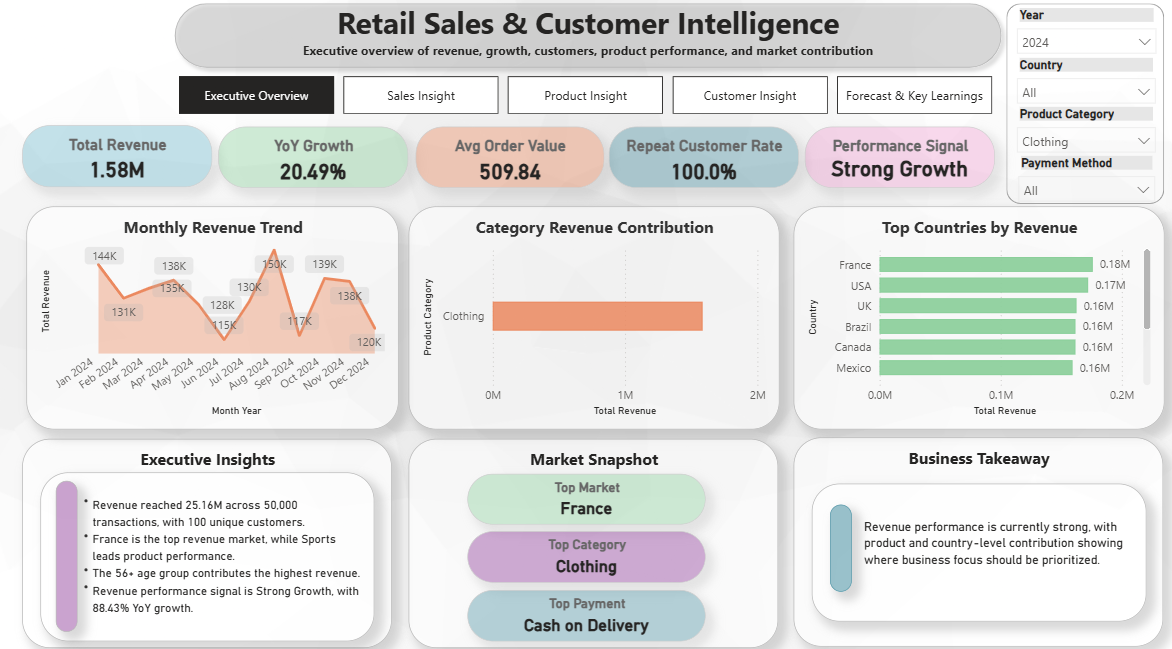

What the dashboard file says about the page in this screenshot:
{"tool":"powerbi","page":{"name":"Executive Overview","canvas":[1280,720],"ordinal":0},"visuals":[{"type":"shape","title":"Executive Insights","box":[27.7,480,400,226.2],"z":0},{"type":"shape","title":"Executive Revenue Summary","box":[47.5,516.2,361.2,182.5],"z":1000},{"type":"shape","box":[1093.1,9.2,170.8,217],"z":2000},{"type":"shape","box":[183.7,0,912.7,87.6],"z":3000},{"type":"textbox","box":[183.7,2.8,912.7,74.9],"z":4000},{"type":"pageNavigator","box":[197.1,88.6,882.9,41.4],"z":5000},{"type":"card","title":"Total Revenue","fields":{"Values":["Measure Table.Total Revenue"]},"box":[27.1,141.4,205.7,67.1],"z":6000},{"type":"lineChart","title":"Monthly Revenue Trend","fields":{"Category":["Dim Date.Month Year"],"Y":["Measure Table.Total Revenue"]},"box":[31.4,228.6,402.9,241.4],"z":7000},{"type":"clusteredBarChart","title":"Category Revenue Contribution","fields":{"Category":["Dim Product.Product Category"],"Y":["Measure Table.Total Revenue"]},"box":[446.2,228.5,401.5,241.5],"z":8000},{"type":"clusteredBarChart","title":"Top Countries by Revenue","fields":{"Category":["Dim Country.Country"],"Y":["Measure Table.Total Revenue"]},"box":[862.3,228.5,401.5,241.5],"z":9000},{"type":"card","title":"YoY Growth","fields":{"Values":["Measure Table.Revenue YoY Growth %"]},"box":[240,142.5,205.8,66.7],"z":10000},{"type":"card","title":"Avg Order Value","fields":{"Values":["Measure Table.Average Order Value"]},"box":[452.5,141.7,204.2,66.7],"z":11000},{"type":"card","title":"Repeat Customer Rate","fields":{"Values":["Measure Table.Repeat Customer Rate %"]},"box":[662.5,141.7,205.8,66.7],"z":12000},{"type":"card","title":"Performance Signal","fields":{"Values":["Measure Table.Revenue Performance Signal"]},"box":[874.2,141.7,205.8,66.7],"z":13000},{"type":"slicer","fields":{"Values":["Dim Country.Country"]},"box":[1094.2,65,170,56.7],"z":14000},{"type":"slicer","fields":{"Values":["Dim Date.Year"]},"box":[1093.3,9.2,170.8,61.7],"z":15000},{"type":"slicer","fields":{"Values":["Dim Product.Product Category"]},"box":[1094.2,118,170,55.8],"z":16000},{"type":"slicer","fields":{"Values":["Dim Payment Method.Payment Method"]},"box":[1096.2,171.5,167.7,56.9],"z":17000},{"type":"shape","title":"Market Snapshot","box":[445.5,480,400,226.4],"z":18000},{"type":"shape","title":"Business Takeaway","box":[862.7,479.1,400,226.4],"z":19000},{"type":"card","title":"Top Market","fields":{"Values":["Measure Table.Top Country by Revenue"]},"box":[509,518.2,258.2,55],"z":20000},{"type":"card","title":"Top Category","fields":{"Values":["Measure Table.Top Category by Revenue"]},"box":[509,580,258.2,55.5],"z":21000},{"type":"card","title":"Top Payment","fields":{"Values":["Measure Table.Top Payment Method by Revenue"]},"box":[509.1,643.6,258.2,55.5],"z":22000},{"type":"shape","title":"Market Leadership Insight","box":[881.8,528.2,361.8,149.1],"z":23000},{"type":"textbox","box":[932.9,560,291.4,100],"z":24000},{"type":"shape","title":"Market Leadership Insight","box":[901.1,552.2,23.3,94.4],"z":25000},{"type":"textbox","box":[77.7,518.5,322.1,171],"z":26000},{"type":"shape","title":"Market Leadership Insight","box":[63.8,525,23.8,163.8],"z":27000}]}

Visuals, with their boxes in screenshot pixels (x1, y1, x2, y2), scaled from the page's 1280x720 canvas onto the 1172x649 screenshot:
"Executive Insights" shape: region(25, 433, 392, 637)
"Executive Revenue Summary" shape: region(43, 465, 374, 630)
shape: region(1001, 8, 1157, 204)
shape: region(168, 0, 1004, 79)
textbox: region(168, 3, 1004, 70)
pageNavigator: region(180, 80, 989, 117)
"Total Revenue" card: region(25, 127, 213, 188)
"Monthly Revenue Trend" lineChart: region(29, 206, 398, 424)
"Category Revenue Contribution" clusteredBarChart: region(409, 206, 776, 424)
"Top Countries by Revenue" clusteredBarChart: region(790, 206, 1157, 424)
"YoY Growth" card: region(220, 128, 408, 189)
"Avg Order Value" card: region(414, 128, 601, 188)
"Repeat Customer Rate" card: region(607, 128, 795, 188)
"Performance Signal" card: region(800, 128, 989, 188)
slicer - Dim Country.Country: region(1002, 59, 1158, 110)
slicer - Dim Date.Year: region(1001, 8, 1157, 64)
slicer - Dim Product.Product Category: region(1002, 106, 1158, 157)
slicer - Dim Payment Method.Payment Method: region(1004, 155, 1157, 206)
"Market Snapshot" shape: region(408, 433, 774, 637)
"Business Takeaway" shape: region(790, 432, 1156, 636)
"Top Market" card: region(466, 467, 702, 517)
"Top Category" card: region(466, 523, 702, 573)
"Top Payment" card: region(466, 580, 703, 630)
"Market Leadership Insight" shape: region(807, 476, 1139, 611)
textbox: region(854, 505, 1121, 595)
"Market Leadership Insight" shape: region(825, 498, 846, 583)
textbox: region(71, 467, 366, 622)
"Market Leadership Insight" shape: region(58, 473, 80, 621)
